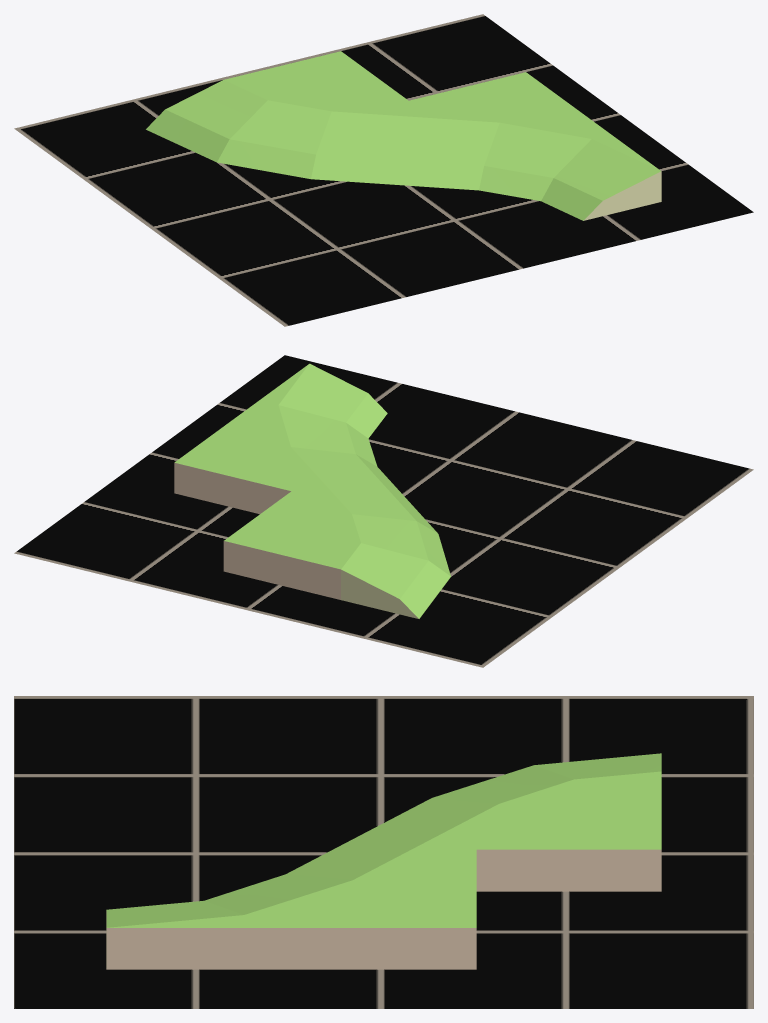
File: Grass_Carpet_Esse_3x3.glb
3 views of the same model, one above another, from view 1: azimuth 30°, elevation 25°; view 2: azimuth 150°, elevation 25°; view 3: azimuth 270°, elevation 25° (orthographic). The views are drawn at different scales.
Parts seen in each view (by area): view 1: Floor, Grass_Carpet_Esse_3x3; view 2: Floor, Grass_Carpet_Esse_3x3; view 3: Floor, Grass_Carpet_Esse_3x3.
Part boxes in pixels (x1,y1,x2,y2): Floor: [14, 14, 753, 326]; Grass_Carpet_Esse_3x3: [146, 51, 661, 220]; Floor: [14, 355, 753, 667]; Grass_Carpet_Esse_3x3: [174, 363, 450, 618]; Floor: [14, 696, 753, 1008]; Grass_Carpet_Esse_3x3: [106, 753, 661, 969].
Bounding box in the file's own units: 400 × 25 × 400.
5 materials, 1 textured.
